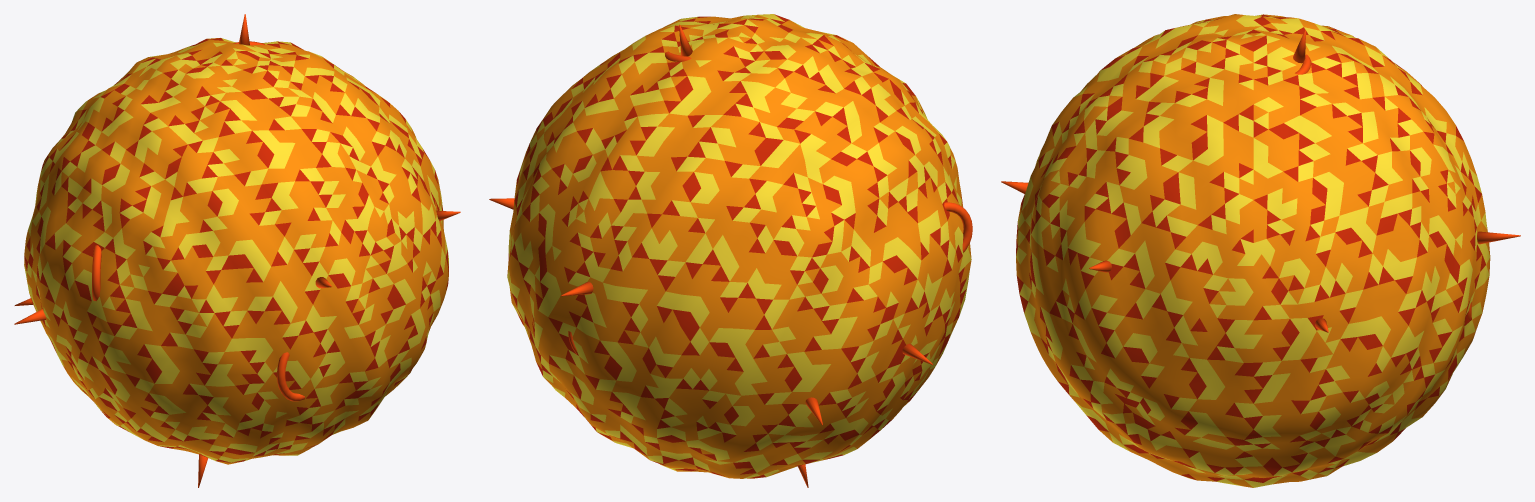
Rendered from sol_detallado.obj.
The picture shows the model from 3 angles, left to right: view 1: azimuth 30°, elevation 25°; view 2: azimuth 150°, elevation 25°; view 3: azimuth 270°, elevation 25°; orthographic projection. The views are drawn at different scales.
Visible parts, largest first — view 1: Sun_Plasma_Surface, Sun_Prominence_03; view 2: Sun_Plasma_Surface, Sun_Prominence_01; view 3: Sun_Plasma_Surface.
Part boxes in pixels (x1,y1,x2,y2): Sun_Plasma_Surface: (24, 38, 448, 464); Sun_Prominence_03: (277, 352, 304, 401); Sun_Plasma_Surface: (507, 14, 971, 478); Sun_Prominence_01: (944, 202, 972, 252); Sun_Plasma_Surface: (1016, 14, 1490, 487).
Size of the model in its own units: 119 by 124 by 122.
